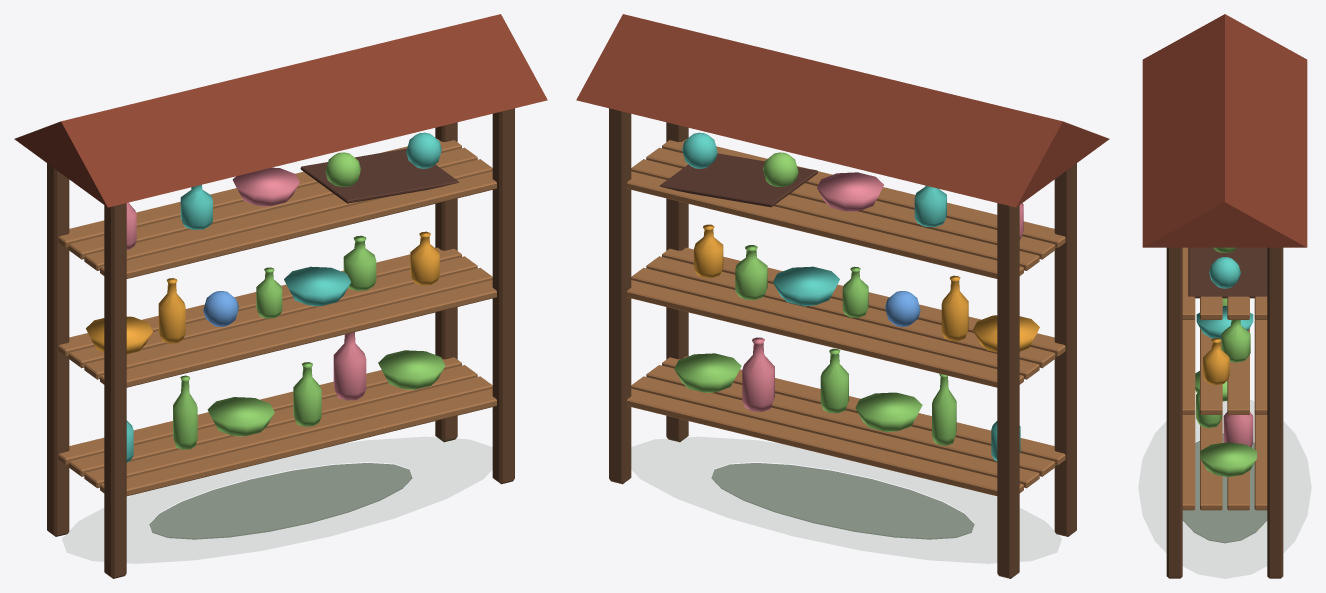
The model's file is glass_rack.glb.
3 renders of one model, left to right at view 1: azimuth 30°, elevation 25°; view 2: azimuth 150°, elevation 25°; view 3: azimuth 270°, elevation 25°, orthographic. The views are drawn at different scales.
Visible parts, largest first — view 1: glass_rack; view 2: glass_rack; view 3: glass_rack.
Part boxes in pixels (<box>): glass_rack: <box>14,14,547,578</box>; glass_rack: <box>576,14,1109,578</box>; glass_rack: <box>1142,14,1307,578</box>.
Bounding box in the file's own units: 1.95 × 1.86 × 0.76.
